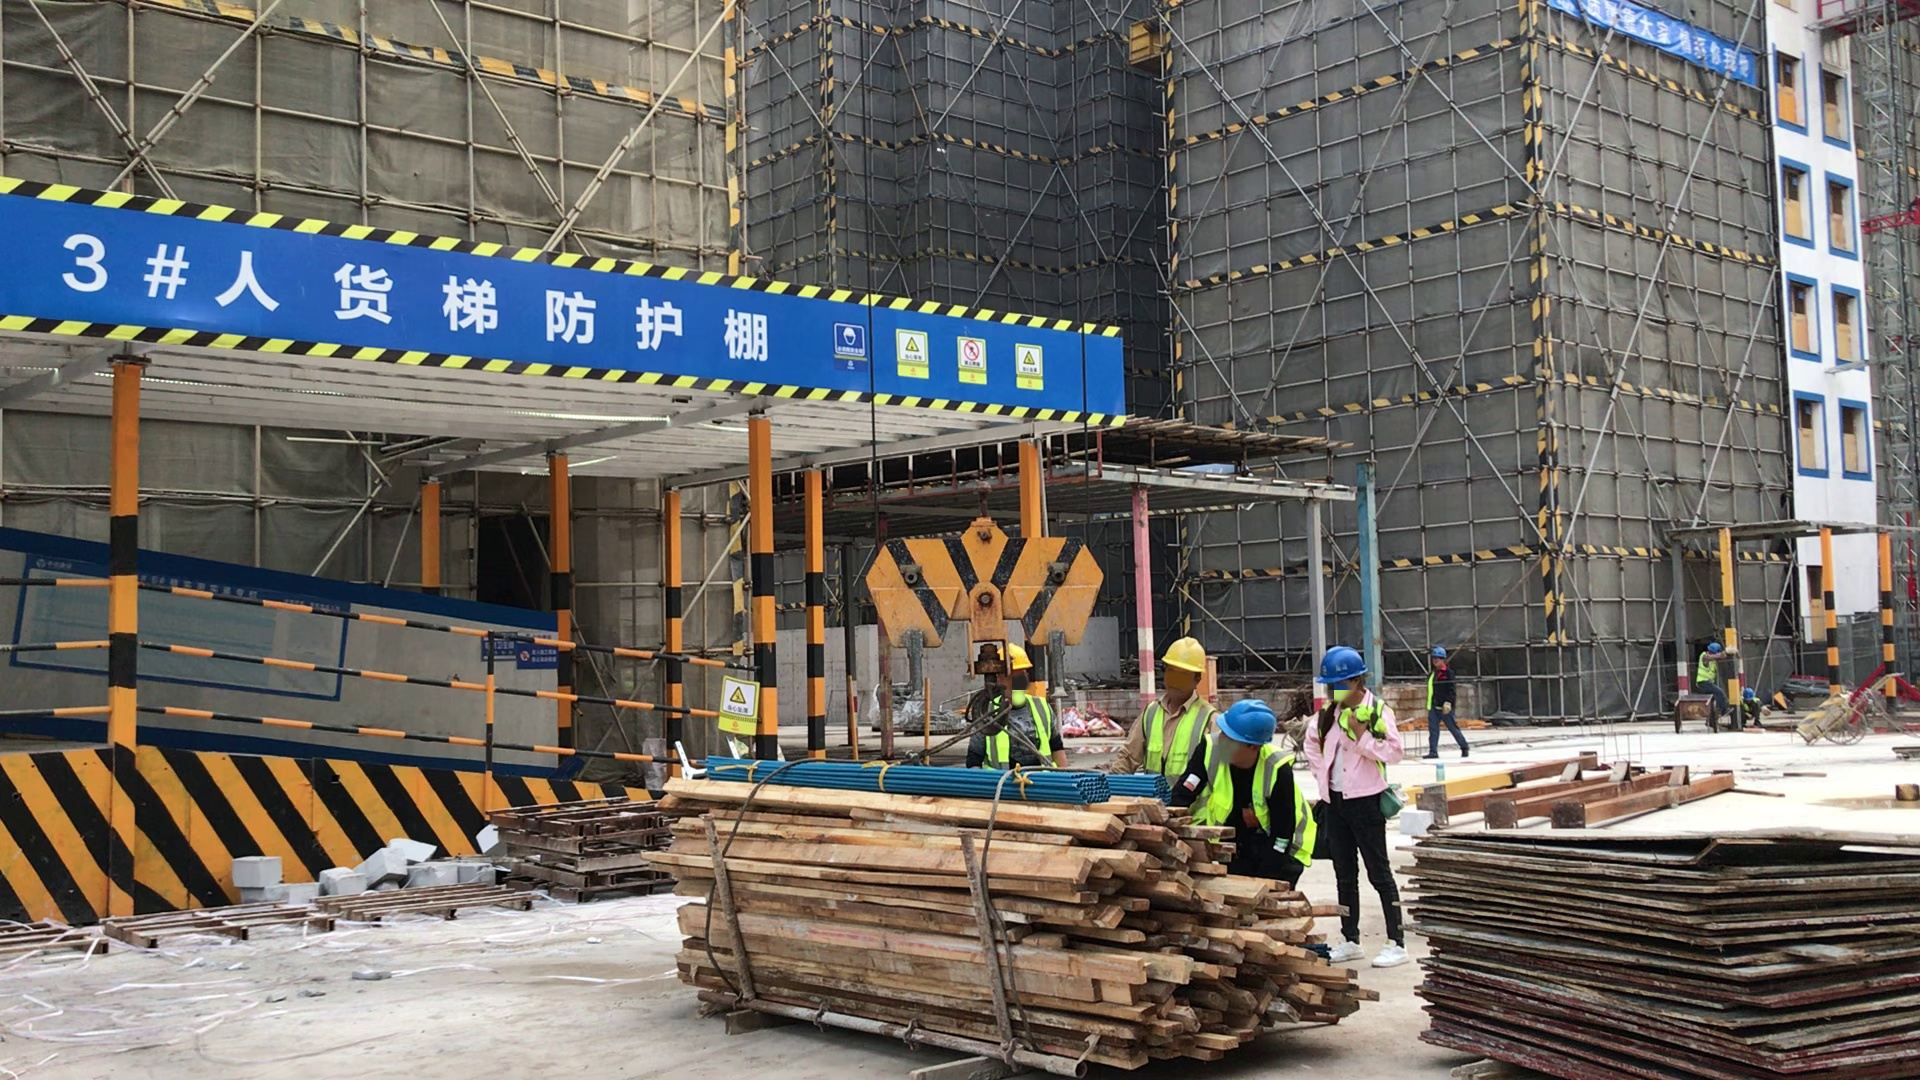helmet: (1213, 700, 1276, 744), (1159, 637, 1209, 677), (1313, 646, 1369, 680), (1003, 645, 1034, 669), (1427, 645, 1445, 660), (1741, 688, 1755, 700), (1708, 644, 1719, 655)
person: (1302, 647, 1408, 967), (1171, 705, 1317, 886), (1113, 638, 1219, 788), (970, 641, 1071, 773), (1420, 646, 1466, 758), (1696, 644, 1733, 712), (1738, 687, 1767, 731)
vest: (1202, 744, 1302, 848), (1140, 695, 1204, 775), (988, 695, 1054, 765), (1696, 652, 1719, 682)
